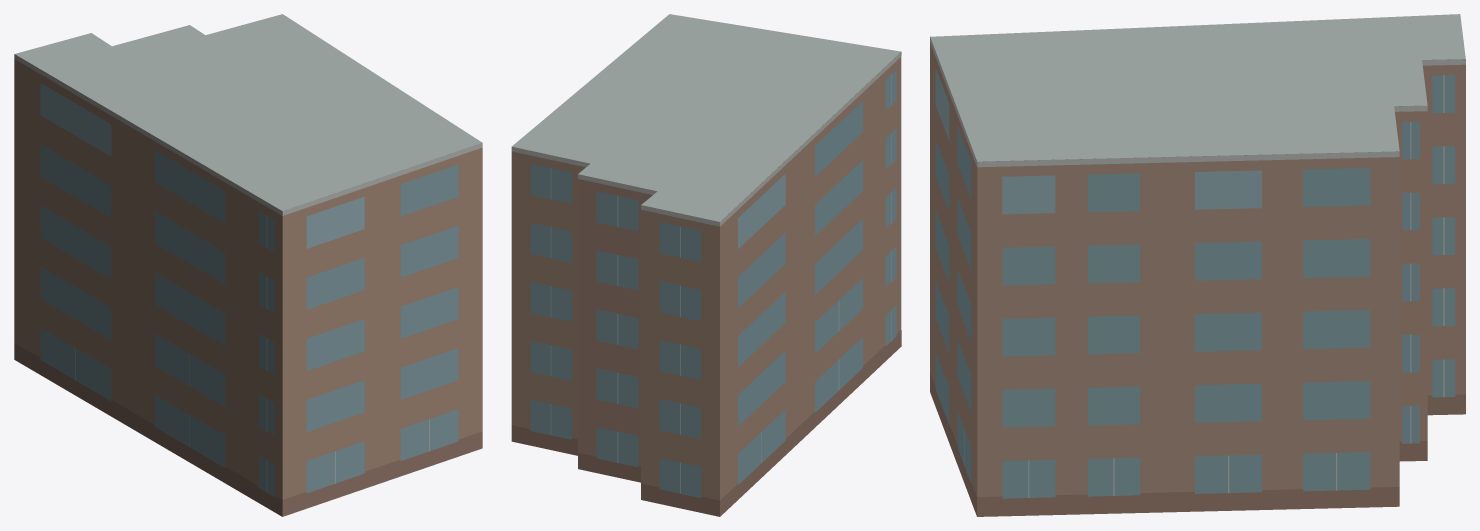
The model's file is survey-upis-32611810.glb.
3 renders of one model, left to right at view 1: azimuth 30°, elevation 25°; view 2: azimuth 150°, elevation 25°; view 3: azimuth 270°, elevation 25°, orthographic. The views are drawn at different scales.
Parts seen in each view (by area): view 1: survey-upis-32611810.tmp; view 2: survey-upis-32611810.tmp; view 3: survey-upis-32611810.tmp.
Part boxes in pixels (left/top/right/bottom): survey-upis-32611810.tmp: left=14, top=14, right=482, bottom=516; survey-upis-32611810.tmp: left=511, top=14, right=901, bottom=516; survey-upis-32611810.tmp: left=930, top=14, right=1465, bottom=516.
Size of the model in its own units: 13.6 by 15.25 by 20.85.
